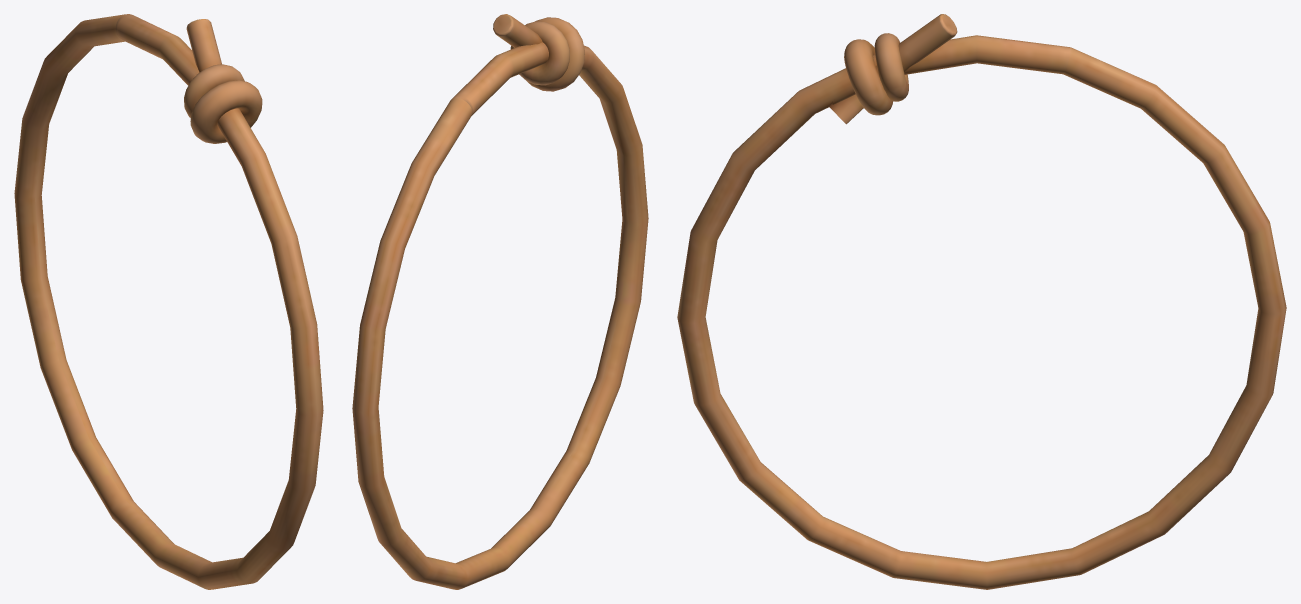
File: lasso.fbx
The picture shows the model from 3 angles, left to right: view 1: azimuth 30°, elevation 25°; view 2: azimuth 150°, elevation 25°; view 3: azimuth 270°, elevation 25°; orthographic projection. The views are drawn at different scales.
Visible parts, largest first — view 1: ropeloop, rope 1; view 2: ropeloop, rope 1; view 3: ropeloop, rope 1.
Boxes of the visible parts, left/top/right/bottom form: ropeloop: left=14, top=14, right=323, bottom=589; rope 1: left=184, top=19, right=262, bottom=143; ropeloop: left=352, top=42, right=648, bottom=589; rope 1: left=493, top=14, right=584, bottom=91; ropeloop: left=677, top=35, right=1286, bottom=589; rope 1: left=828, top=14, right=957, bottom=124.
Bounding box in the file's own units: 30 × 238 × 227.
Materials: 1 (1 with a texture image).
